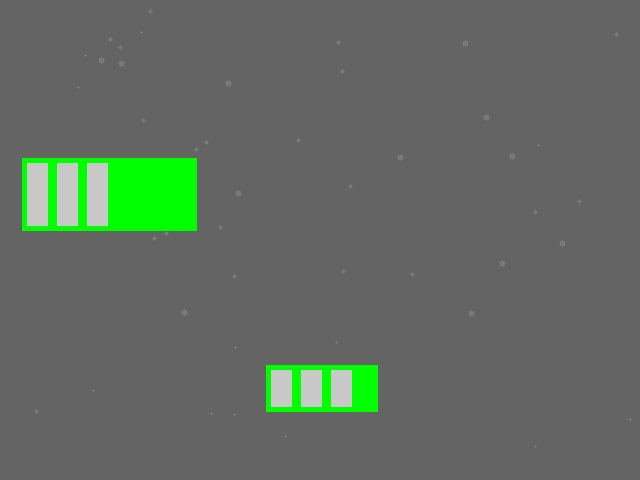bus: (22, 158, 196, 230), (266, 365, 377, 411)
